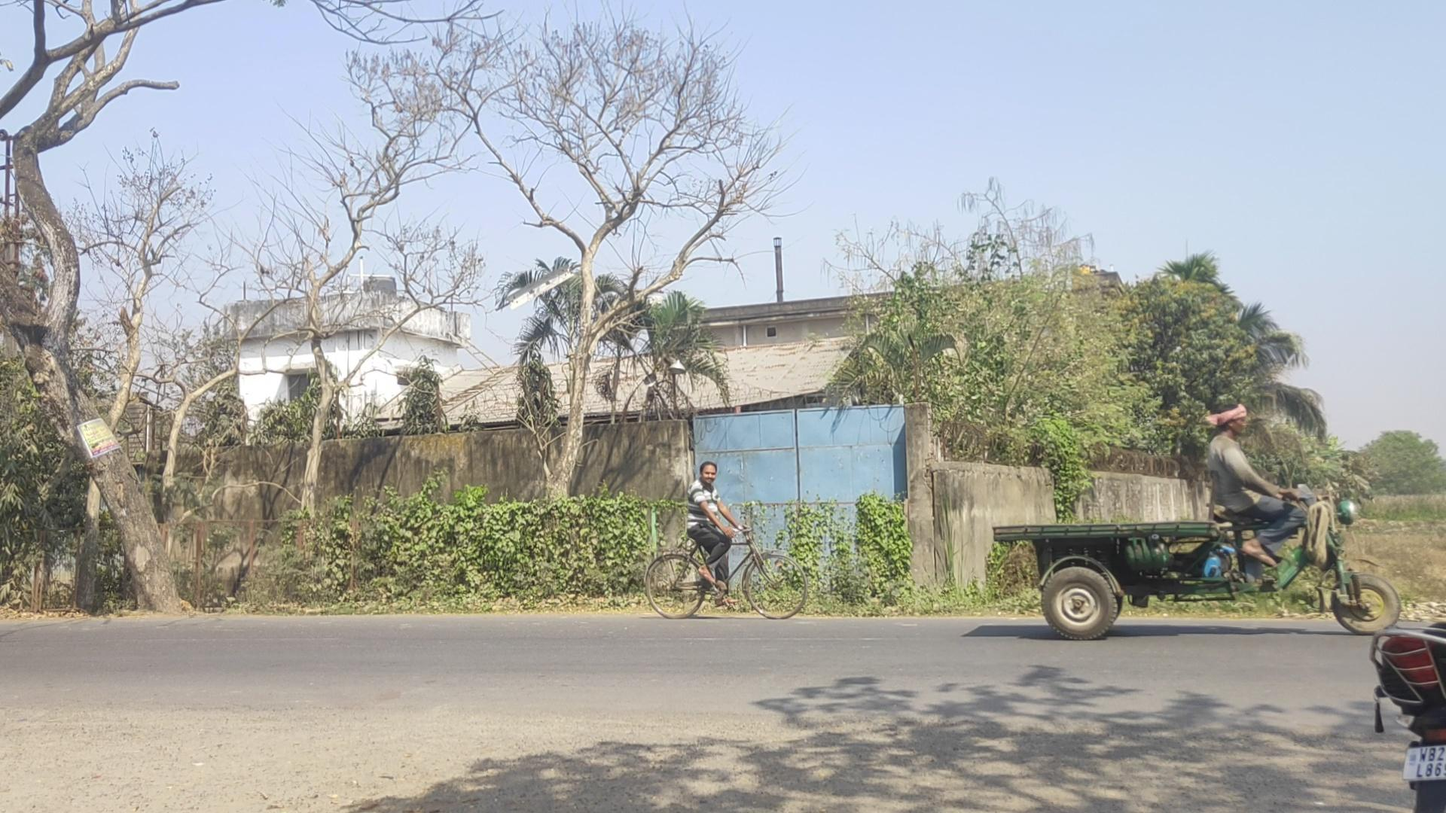bike: (643, 461, 809, 620)
